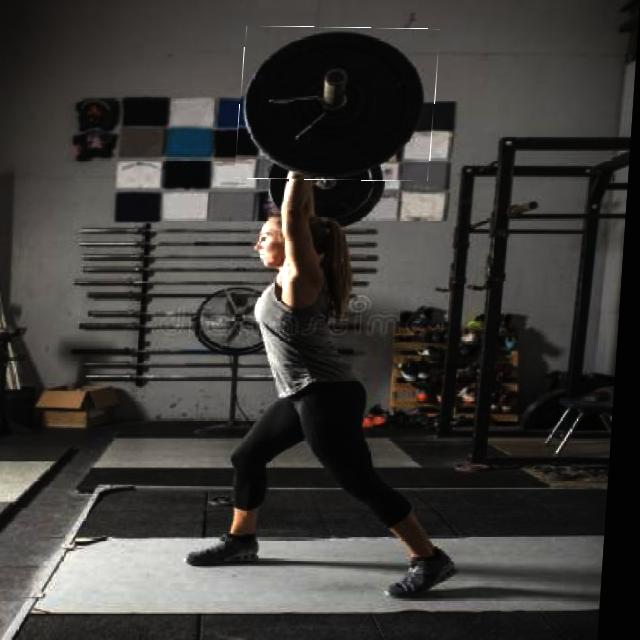barbell: (239, 29, 442, 182)
